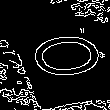O_E: (8, 28, 102, 82)
